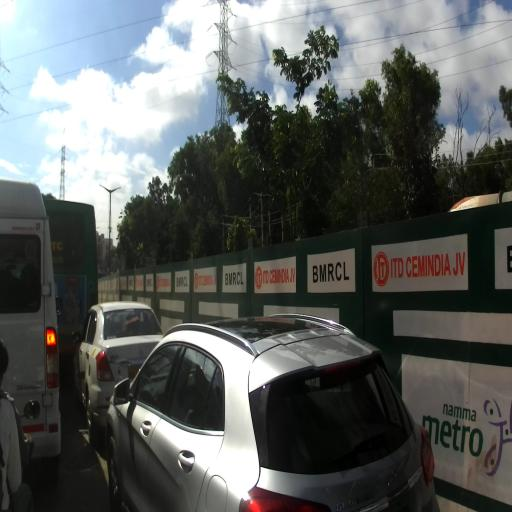street_light_0: (99, 183, 111, 196), (109, 188, 121, 196), (96, 226, 100, 230)
